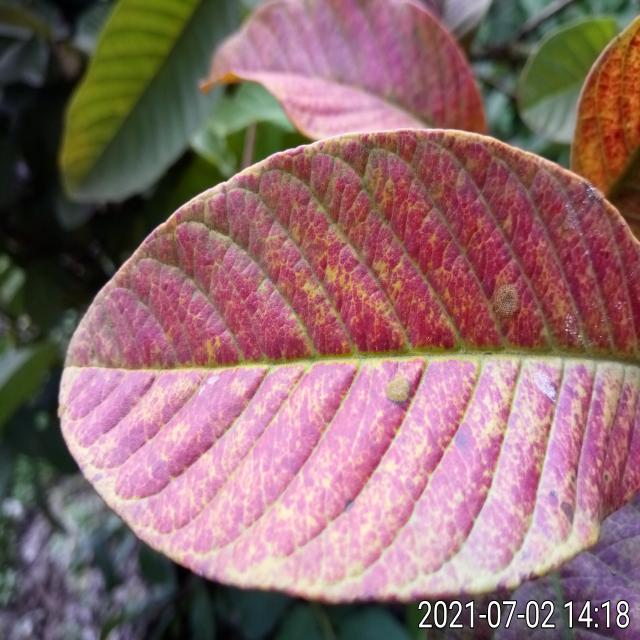Red Rust: (60, 2, 640, 602)
